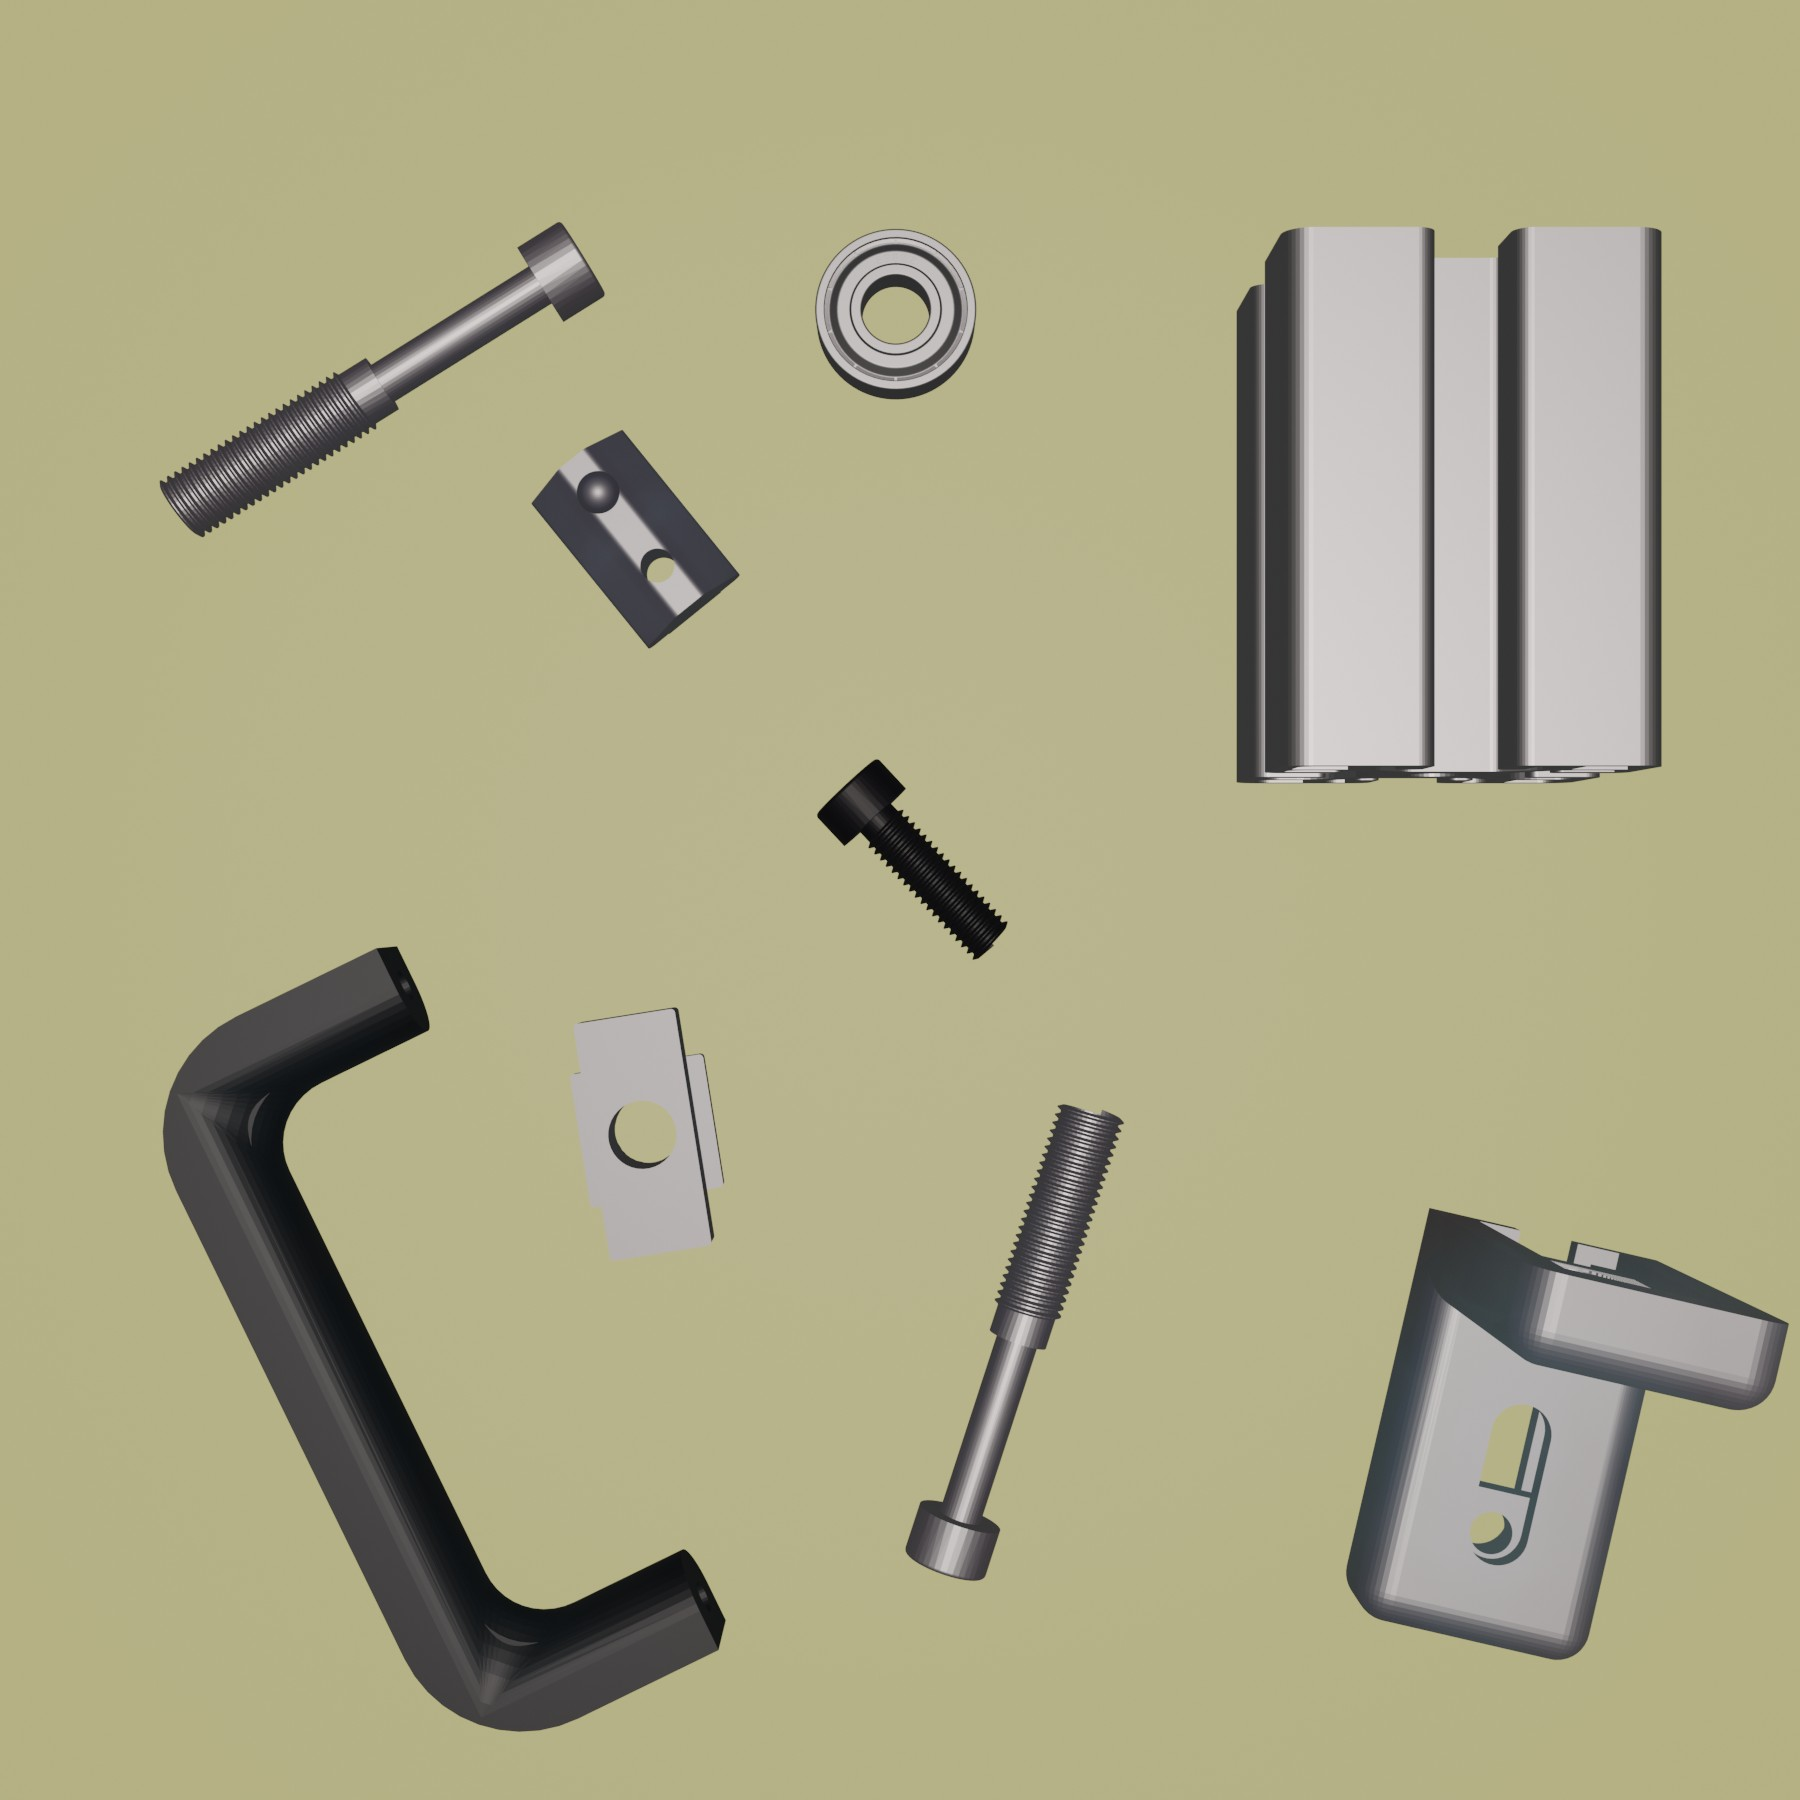Aluminium Extension: (1228, 219, 1665, 793)
Ball Bearing: (813, 224, 979, 402)
Multiwinkel: (1343, 1205, 1788, 1665)
Pull Handle: (162, 941, 725, 1736)
Shoulder Socket Head Cap Screw: (153, 218, 612, 539), (902, 1101, 1123, 1584)
Socket Head Cap Screw: (813, 753, 1010, 964)
T Nut Square: (565, 1001, 729, 1259)
T Spring Nut: (529, 429, 742, 649)
